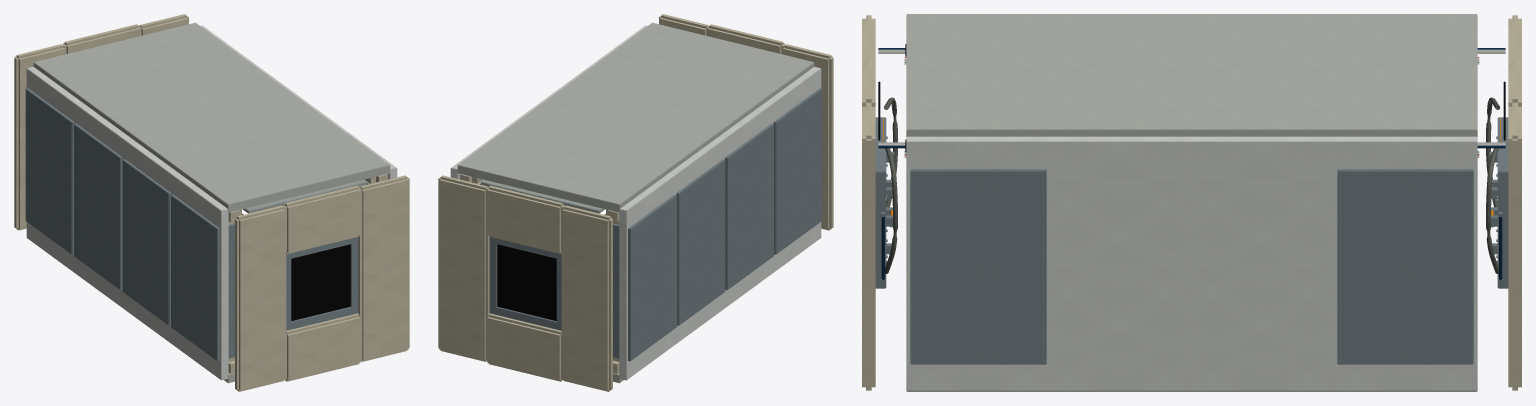
File: tranquility.glb
3 renders of one model, left to right at view 1: azimuth 30°, elevation 25°; view 2: azimuth 150°, elevation 25°; view 3: azimuth 270°, elevation 25°, orthographic. The views are drawn at different scales.
Parts seen in each view (by area): view 1: tranquility_detailed; view 2: tranquility_detailed; view 3: tranquility_detailed.
Boxes of the visible parts, box(x1,y1,x2,y2) form: tranquility_detailed: box(14, 14, 409, 391); tranquility_detailed: box(438, 14, 833, 391); tranquility_detailed: box(862, 14, 1521, 391).
Bounding box in the file's own units: 3.18 × 3 × 6.84.
Materials: 23 (15 with a texture image).
